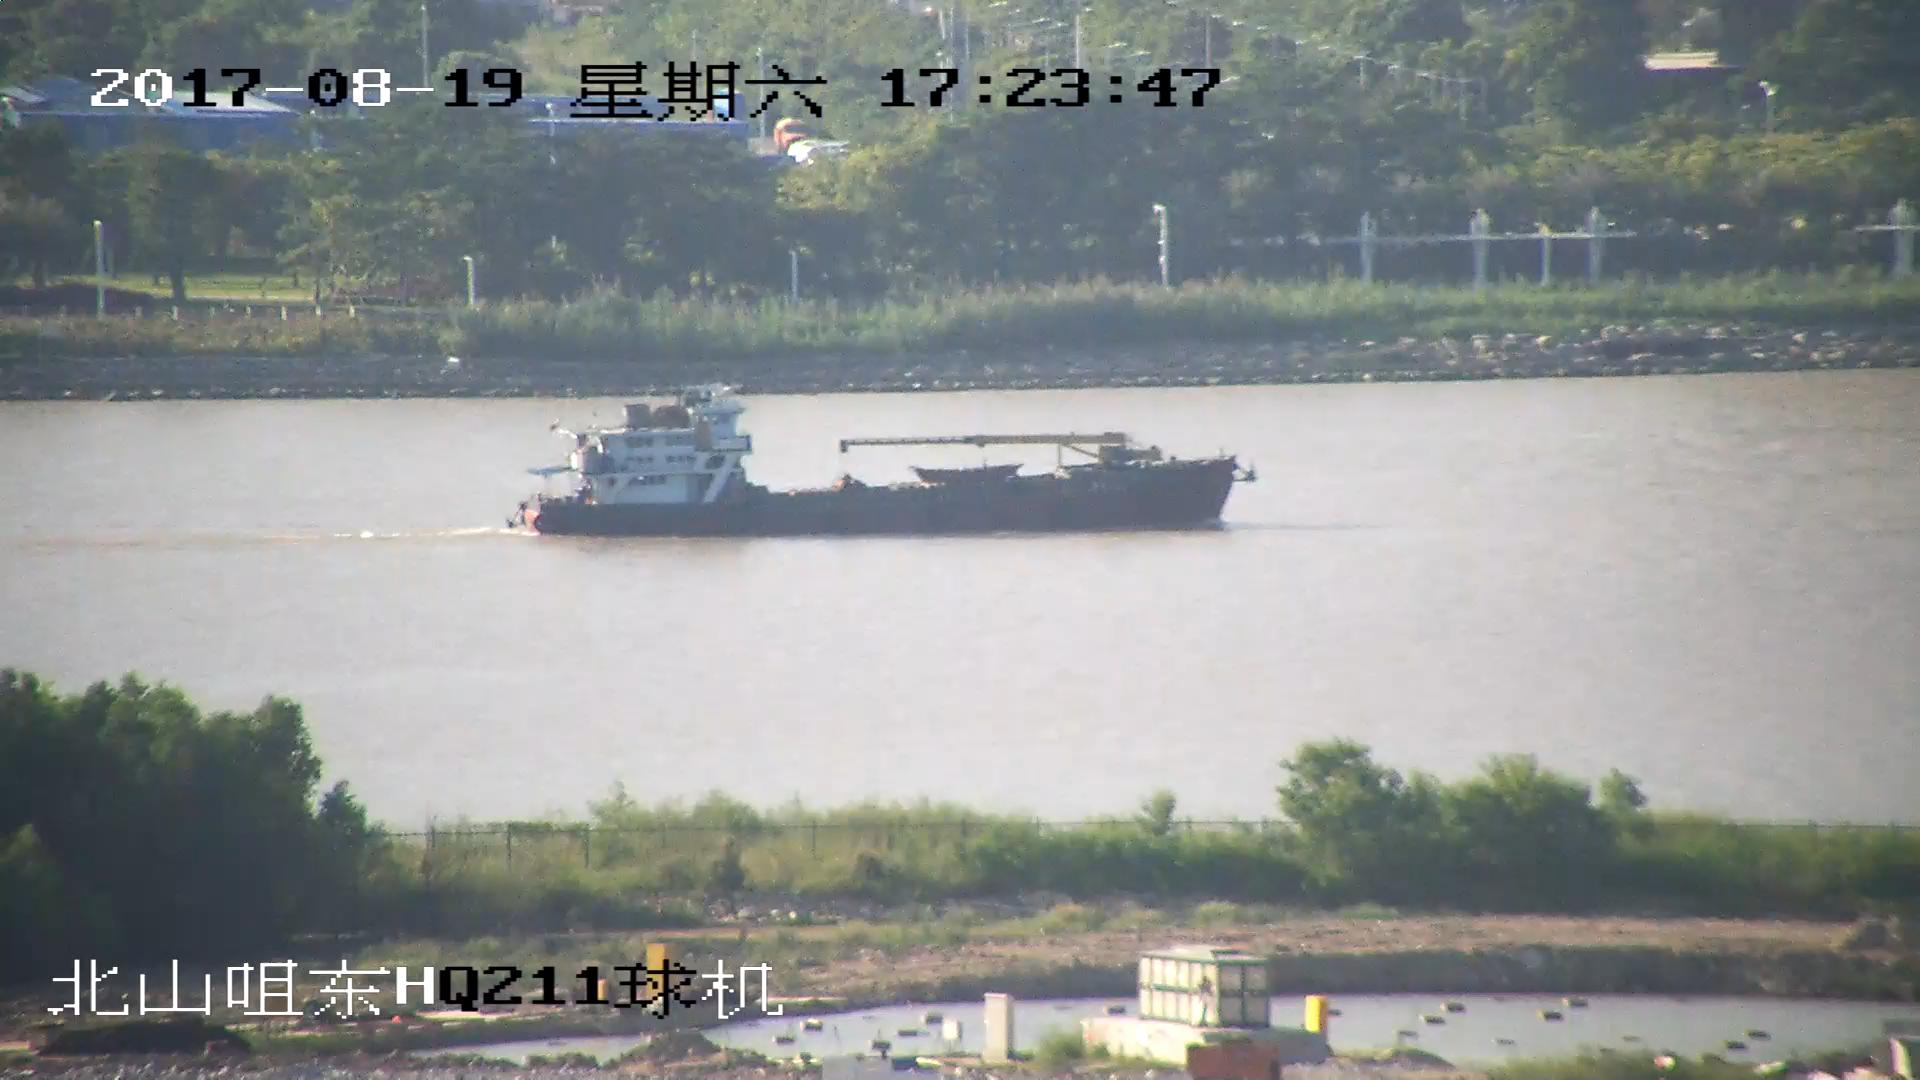bulk cargo carrier: (514, 390, 1253, 538)
